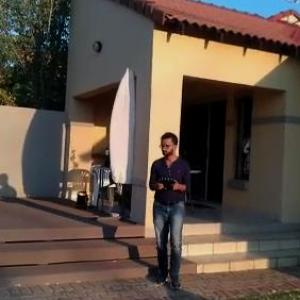follow: (144, 128, 192, 294)
